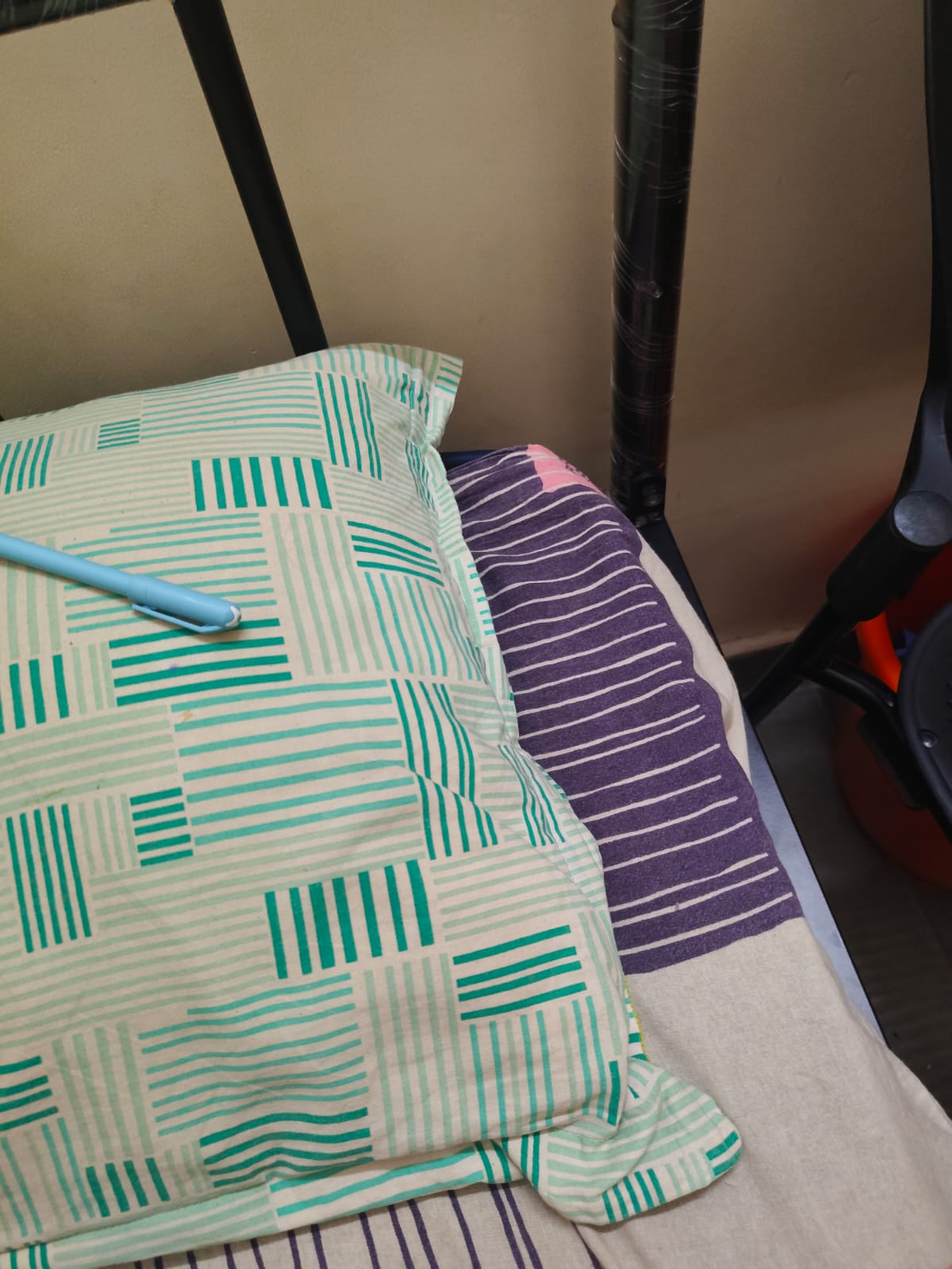pen: (8, 500, 267, 670)
